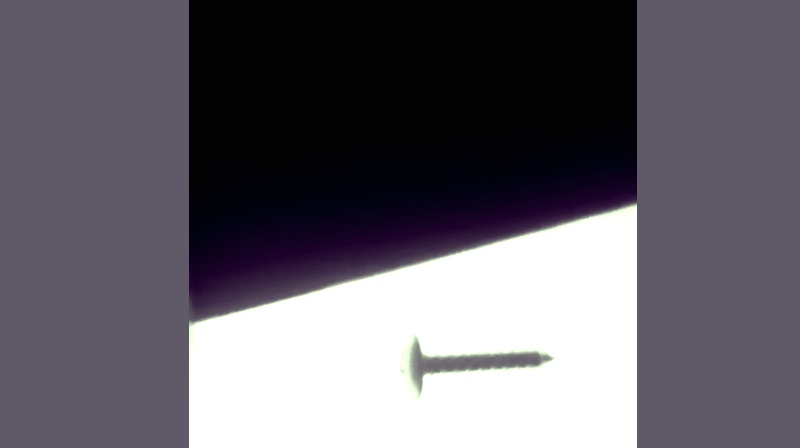S003: (392, 329, 556, 401)
